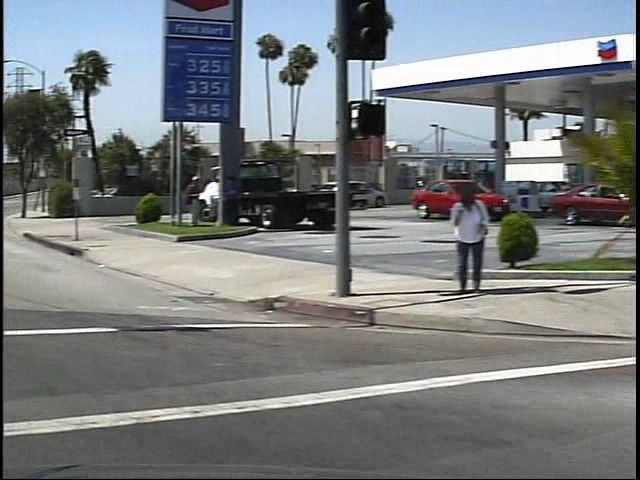person: (435, 181, 479, 297), (174, 172, 197, 230)
